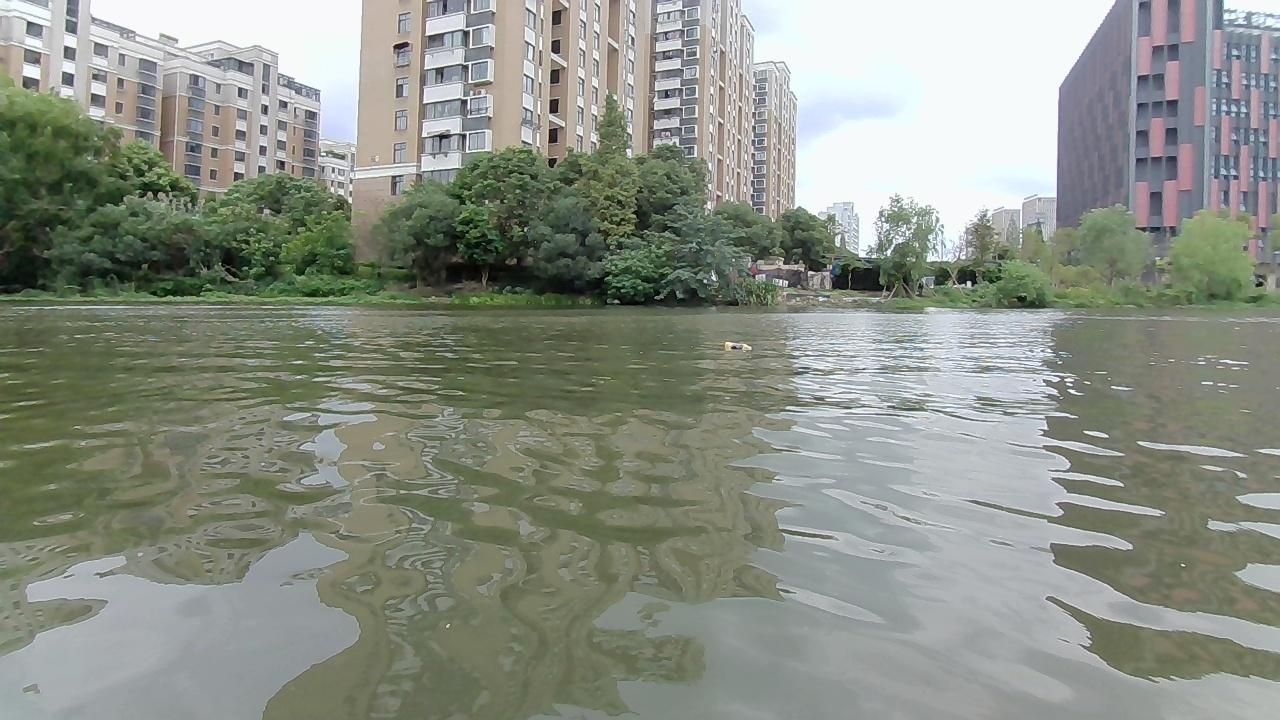bottle: (721, 338, 753, 353)
